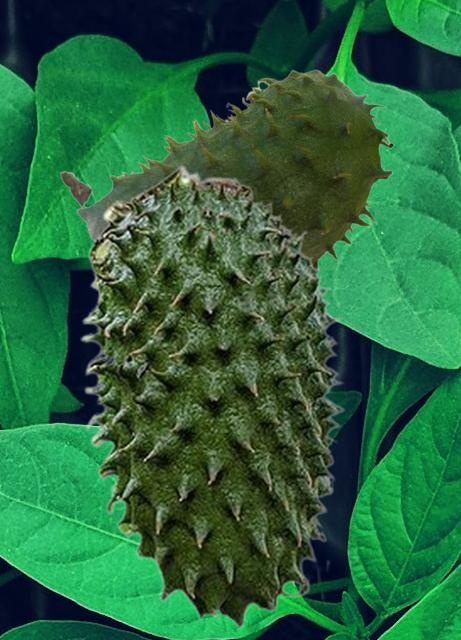guyabano: (80, 163, 345, 628), (59, 69, 393, 266)
